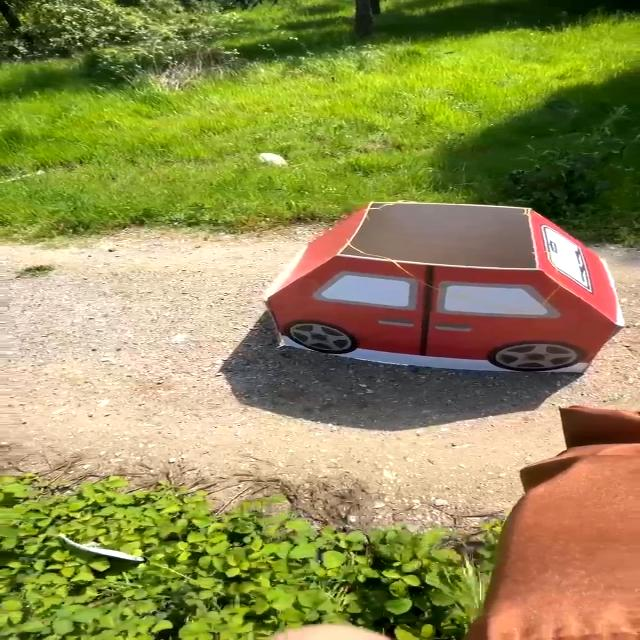red_car: (263, 190, 640, 391)
